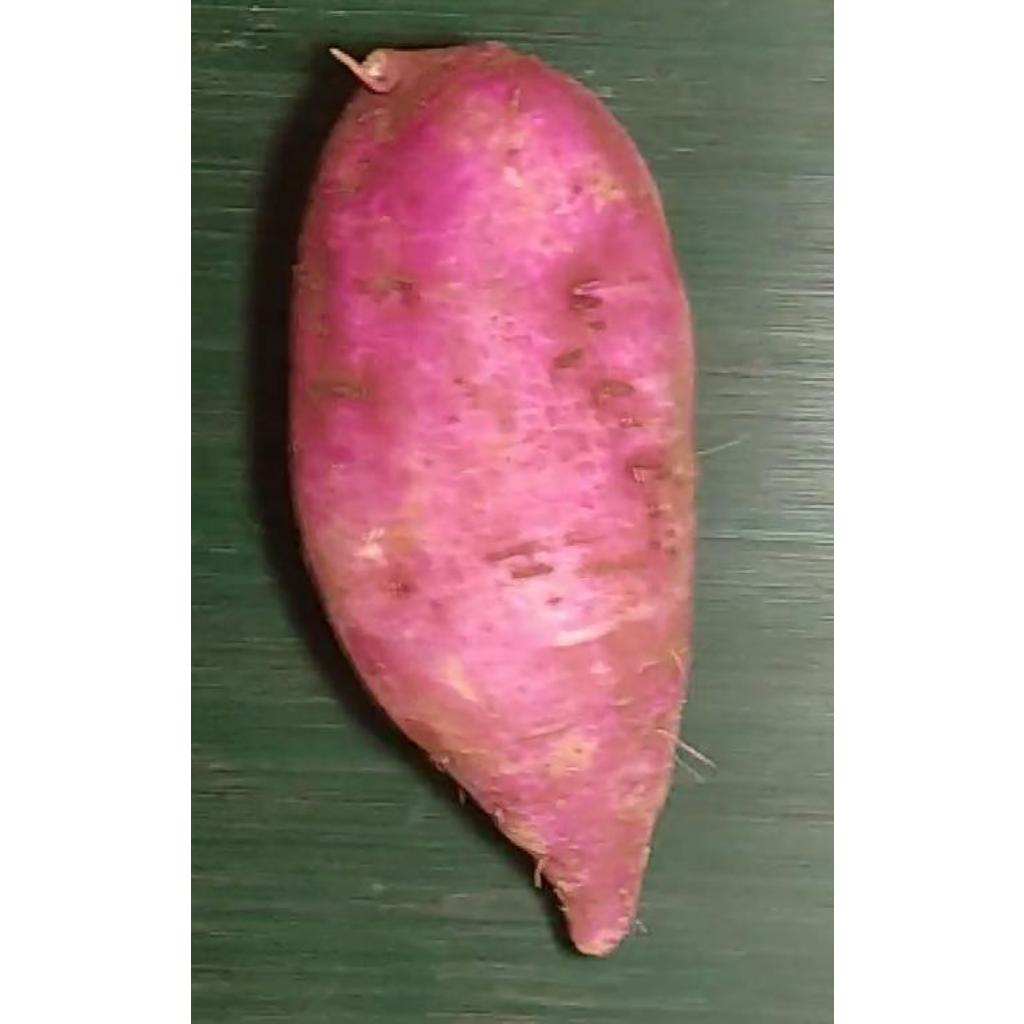Sweet Potato: (286, 42, 694, 961)
